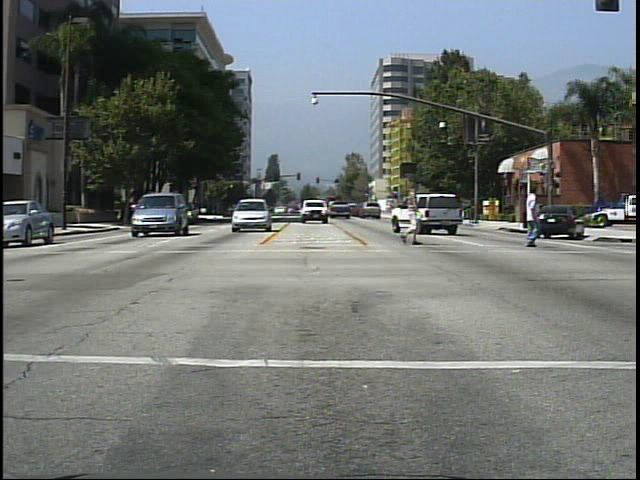person: (394, 177, 432, 251), (513, 179, 549, 252)
